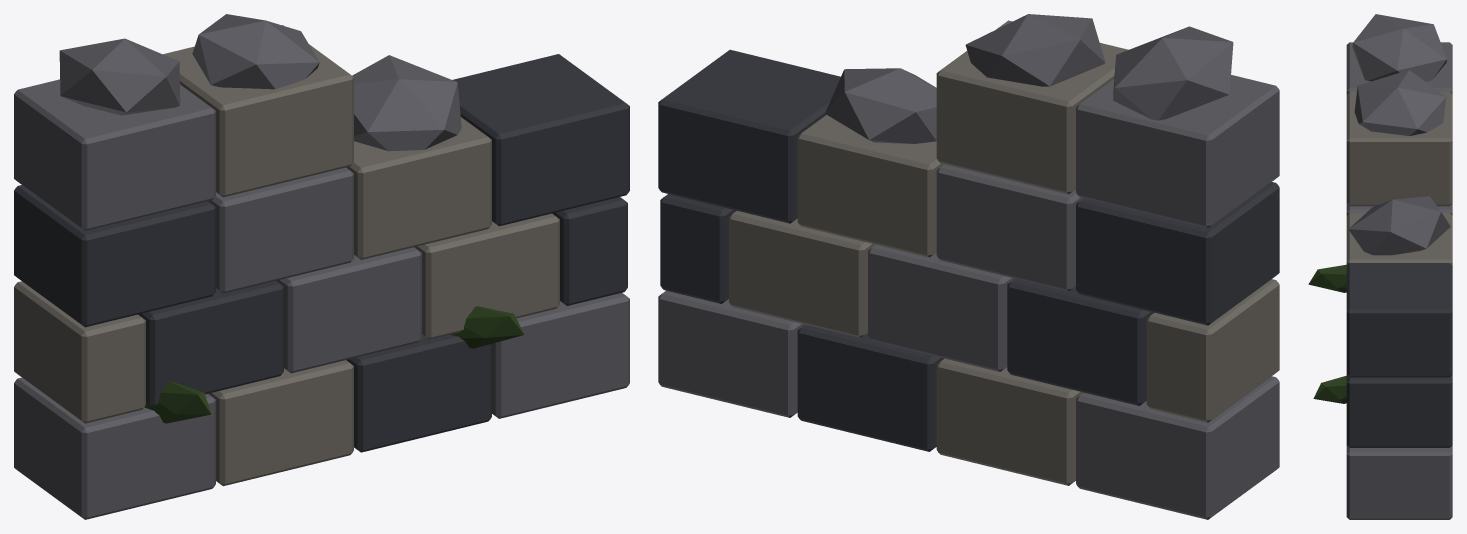
The model's file is Ruined_Wall.glb.
3 renders of one model, left to right at view 1: azimuth 30°, elevation 25°; view 2: azimuth 150°, elevation 25°; view 3: azimuth 270°, elevation 25°, orthographic. The views are drawn at different scales.
Parts seen in each view (by area): view 1: Ruined_Wall; view 2: Ruined_Wall; view 3: Ruined_Wall.
Boxes of the visible parts, x1,y1,x2,y2 form: Ruined_Wall: (14, 14, 629, 519); Ruined_Wall: (658, 14, 1279, 519); Ruined_Wall: (1308, 14, 1452, 519).
Bounding box in the file's own units: 2.74 × 2.08 × 0.8441.
